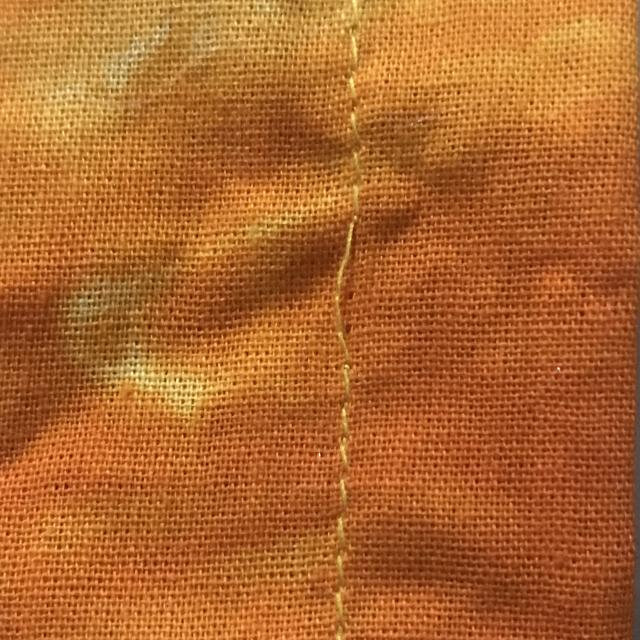good: (316, 412, 368, 565)
skip: (291, 180, 384, 373)
